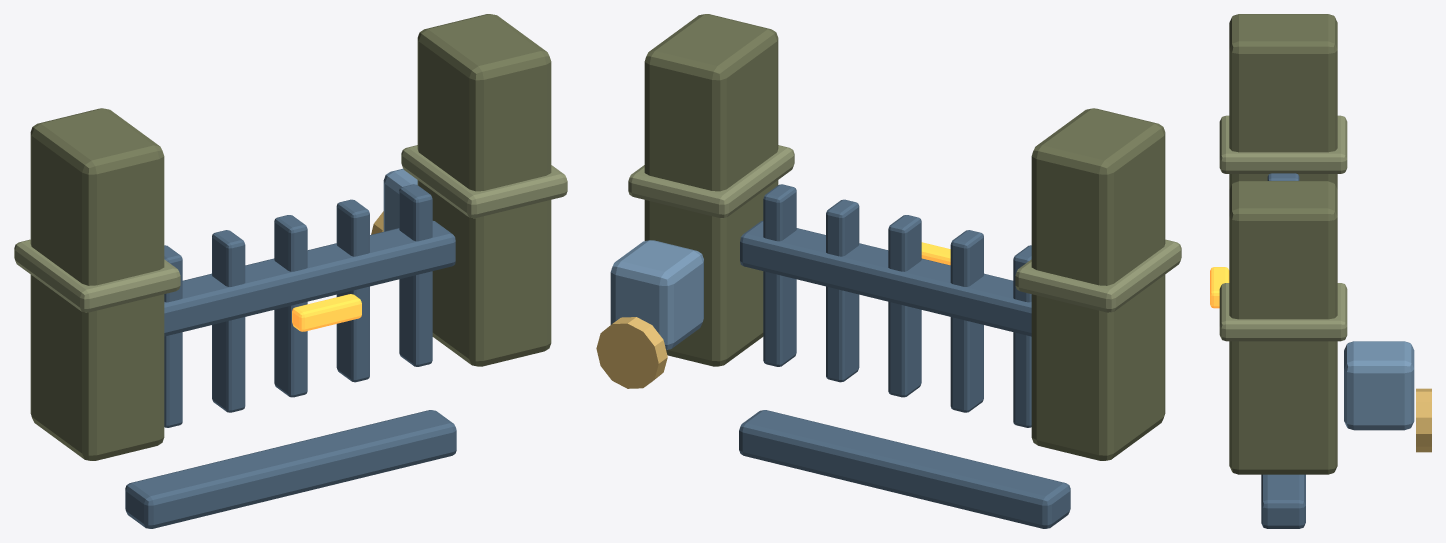
The model's file is com_gate.glb.
The picture shows the model from 3 angles, left to right: view 1: azimuth 30°, elevation 25°; view 2: azimuth 150°, elevation 25°; view 3: azimuth 270°, elevation 25°; orthographic projection. The views are drawn at different scales.
Visible parts, largest first — view 1: com_gate; view 2: com_gate; view 3: com_gate.
Part boxes in pixels (<box>): com_gate: <box>14,14,567,528</box>; com_gate: <box>596,14,1181,528</box>; com_gate: <box>1210,14,1431,528</box>.
Size of the model in its own units: 1.56 by 1.22 by 0.695.
